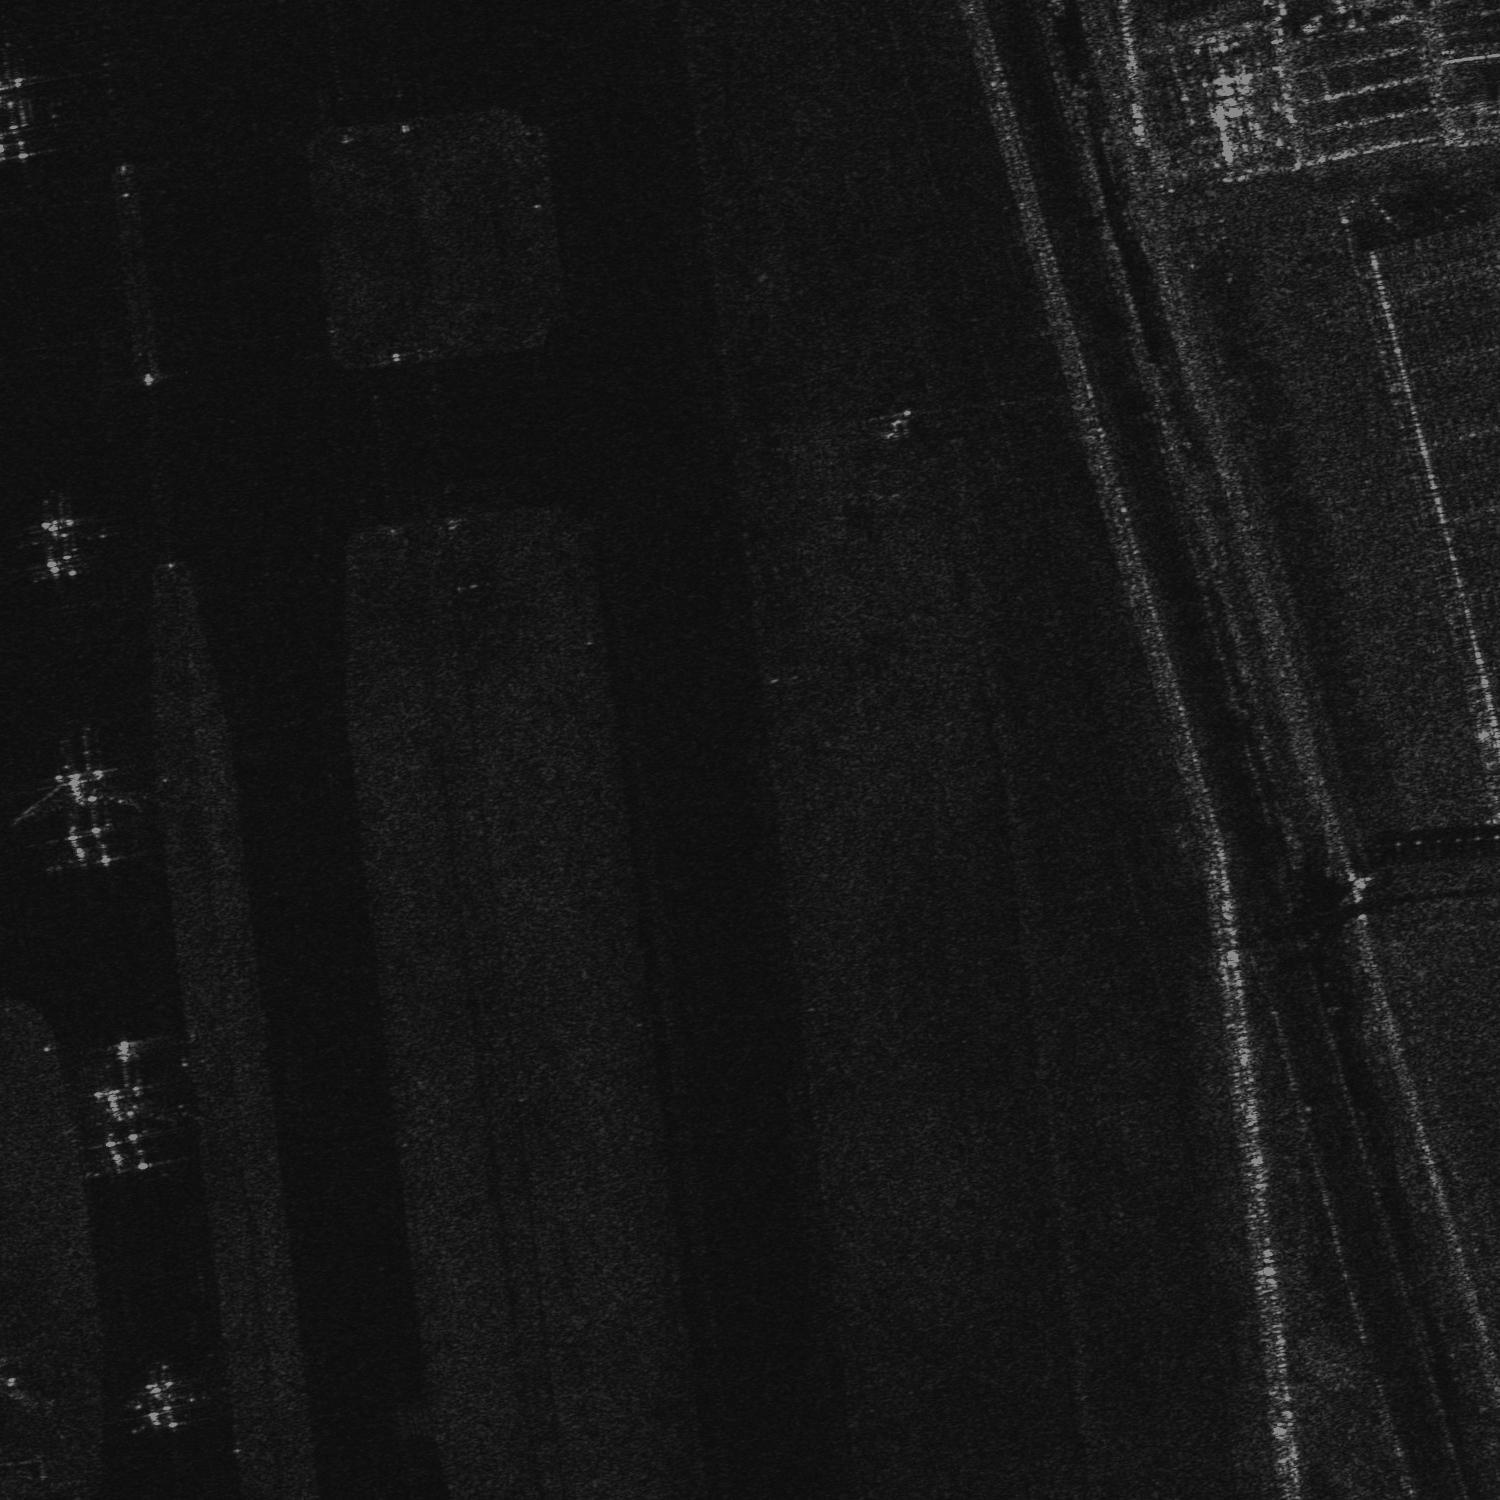A330: (110, 1357, 216, 1442)
Boeing787: (10, 486, 109, 584)
other: (11, 745, 148, 872), (71, 1045, 194, 1181)
